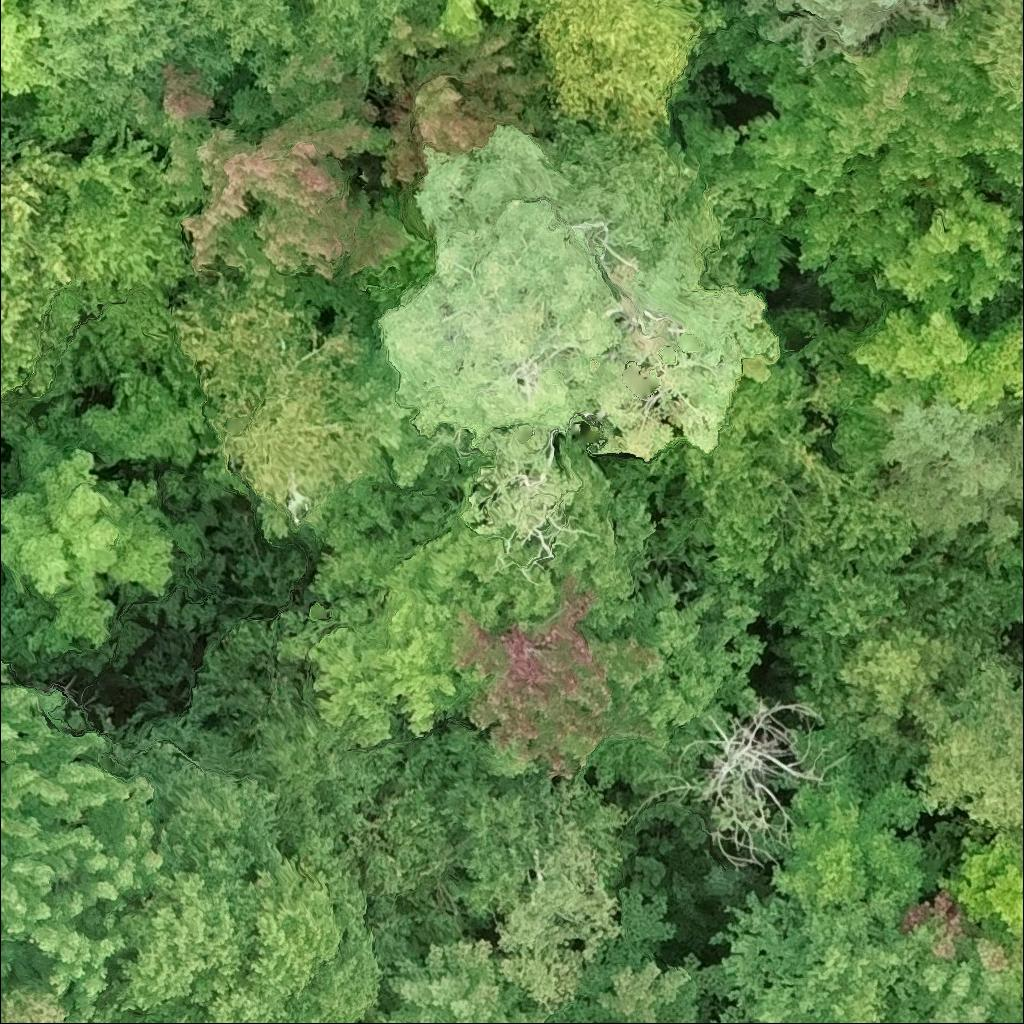crown: (275, 468, 766, 790), (373, 122, 778, 478), (86, 713, 388, 1023), (716, 20, 1023, 313), (131, 34, 414, 282), (0, 658, 178, 1023), (172, 252, 387, 506), (0, 421, 203, 666), (435, 774, 634, 1014), (710, 879, 934, 1023), (369, 9, 548, 189), (520, 0, 723, 144), (0, 117, 88, 438), (846, 287, 1023, 415), (912, 652, 1023, 856), (185, 0, 442, 84), (870, 177, 1023, 318), (548, 887, 706, 1023), (877, 400, 1023, 546), (883, 889, 1023, 1023), (837, 624, 985, 749), (736, 0, 956, 81), (356, 934, 551, 1023), (936, 0, 1023, 113), (931, 838, 1023, 940), (0, 0, 60, 106), (434, 0, 521, 45), (0, 984, 66, 1023), (987, 277, 1023, 329), (1012, 226, 1023, 251), (581, 1017, 599, 1023), (1020, 259, 1023, 276), (1021, 514, 1023, 524), (548, 1022, 551, 1023), (1023, 982, 1023, 988), (183, 0, 185, 0)
